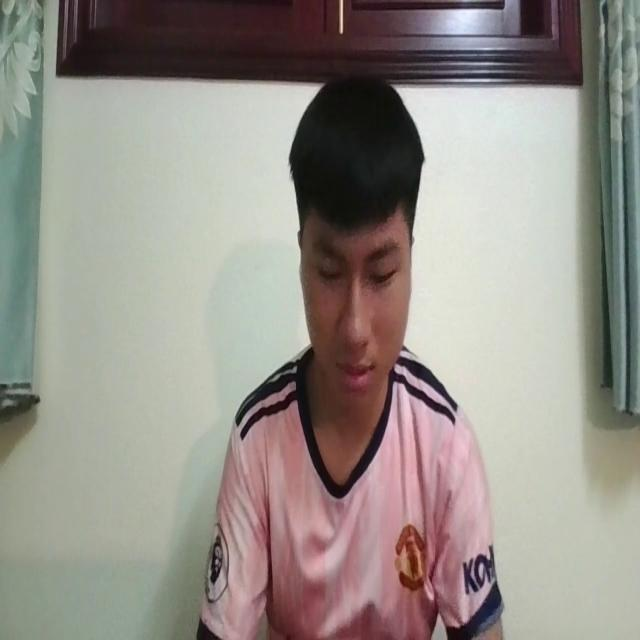student: (203, 55, 499, 640)
